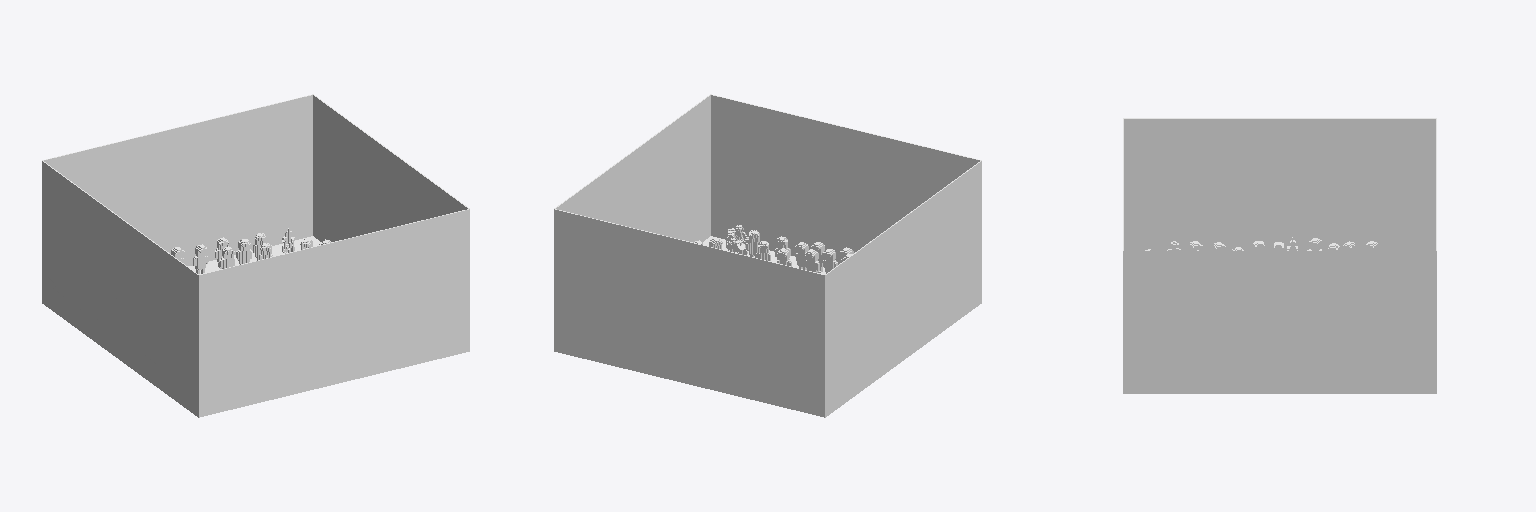
The model's file is stage3_all.obj.
The picture shows the model from 3 angles: view 1: azimuth 30°, elevation 25°; view 2: azimuth 150°, elevation 25°; view 3: azimuth 270°, elevation 25°; orthographic projection.
Visible parts, largest first — view 1: object 1; view 2: object 1; view 3: object 1.
Part boxes in pixels (x1,y1,x2,y2): object 1: (42,94,469,417); object 1: (554,94,981,417); object 1: (1123,118,1436,393).
Bounding box in the file's own units: 25.6 × 12.8 × 25.6.